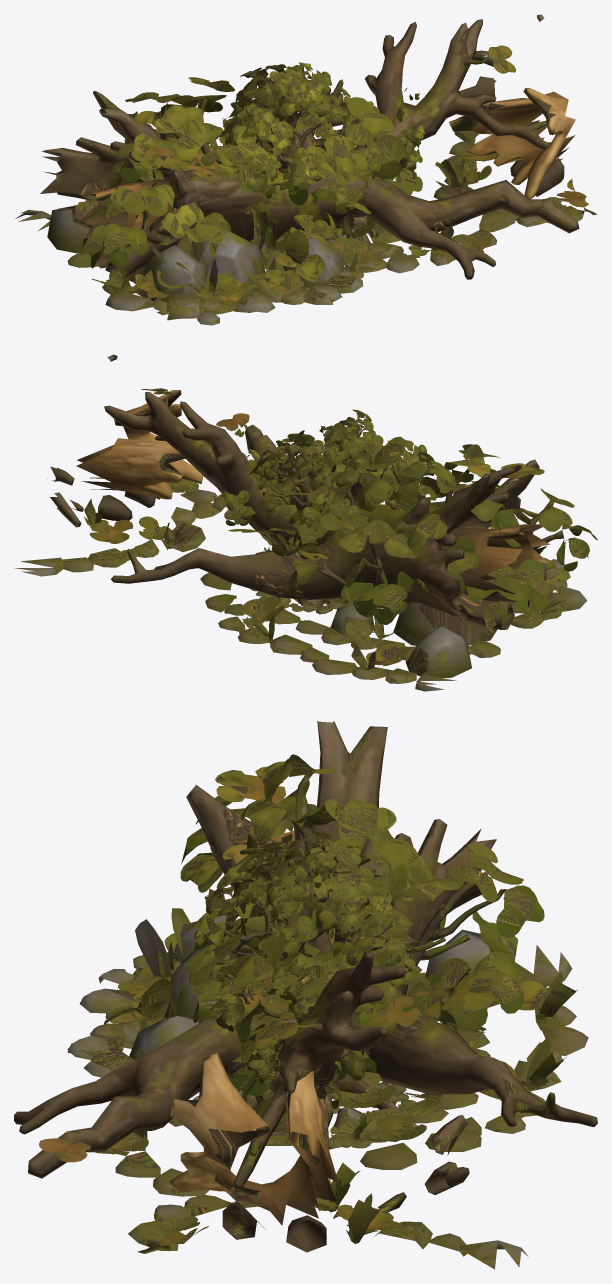
The model's file is small.glb.
The picture shows the model from 3 angles, top to bottom: view 1: azimuth 30°, elevation 25°; view 2: azimuth 150°, elevation 25°; view 3: azimuth 270°, elevation 25°; orthographic projection. The views are drawn at different scales.
Parts seen in each view (by area): view 1: tree_3_full, tree_2_full, tree_2_far, tree_3_far, tree_0_full, tree_1_full, tree_0_far, tree_0_mid, tree_2_mid, tree_1_far, tree_1_mid, tree_3_mid; view 2: tree_3_full, tree_2_full, tree_2_far, tree_1_full, tree_0_full, tree_3_far, tree_2_mid, tree_3_mid, tree_0_far, tree_1_far, tree_0_mid, tree_1_mid; view 3: tree_3_full, tree_2_full, tree_2_far, tree_0_full, tree_1_full, tree_3_far, tree_0_far, tree_1_far, tree_0_mid, tree_2_mid, tree_1_mid, tree_3_mid.
Boxes of the visible parts, x1,y1,x2,y2 form: tree_3_full: (15,19,586,325); tree_2_full: (68,14,597,314); tree_2_far: (68,19,588,311); tree_3_far: (75,28,584,323); tree_0_full: (234,64,424,214); tree_1_full: (222,62,417,254); tree_0_far: (237,65,422,212); tree_0_mid: (234,64,421,206); tree_2_mid: (83,80,577,297); tree_1_far: (221,63,416,252); tree_1_mid: (222,63,417,253); tree_3_mid: (91,47,546,313); tree_3_full: (104,388,566,691); tree_2_full: (14,354,597,660); tree_2_far: (52,358,594,657); tree_1_full: (247,416,427,614); tree_0_full: (222,409,438,609); tree_3_far: (137,388,555,683); tree_2_mid: (54,433,570,657); tree_3_mid: (145,389,559,681); tree_0_far: (226,409,439,606); tree_1_far: (248,417,423,610); tree_0_mid: (223,410,436,604); tree_1_mid: (248,418,426,611); tree_3_full: (14,721,597,1196); tree_2_full: (67,755,544,1269); tree_2_far: (79,754,537,1267); tree_0_full: (194,839,417,1124); tree_1_full: (193,830,417,1148); tree_3_far: (39,722,577,1196); tree_0_far: (199,842,412,1121); tree_1_far: (249,831,407,1149); tree_0_mid: (194,840,413,1119); tree_2_mid: (78,763,544,1251); tree_1_mid: (252,831,406,1146); tree_3_mid: (118,810,573,1151).
Size of the model in its own units: 2.93 by 1 by 2.1.
1 material, 1 textured.
